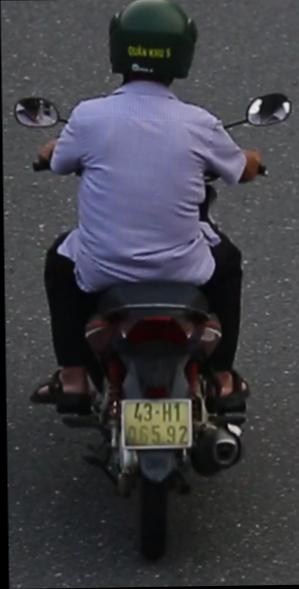LP: (114, 393, 194, 449)
helmet: (99, 0, 202, 103)
